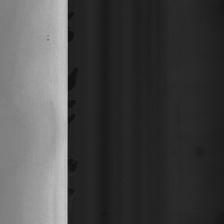inclusion: (44, 29, 50, 43)
